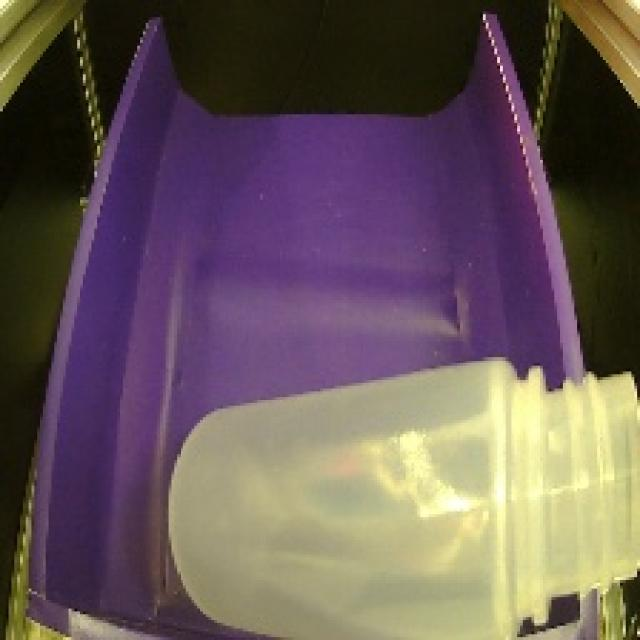plastic: (148, 351, 640, 639)
